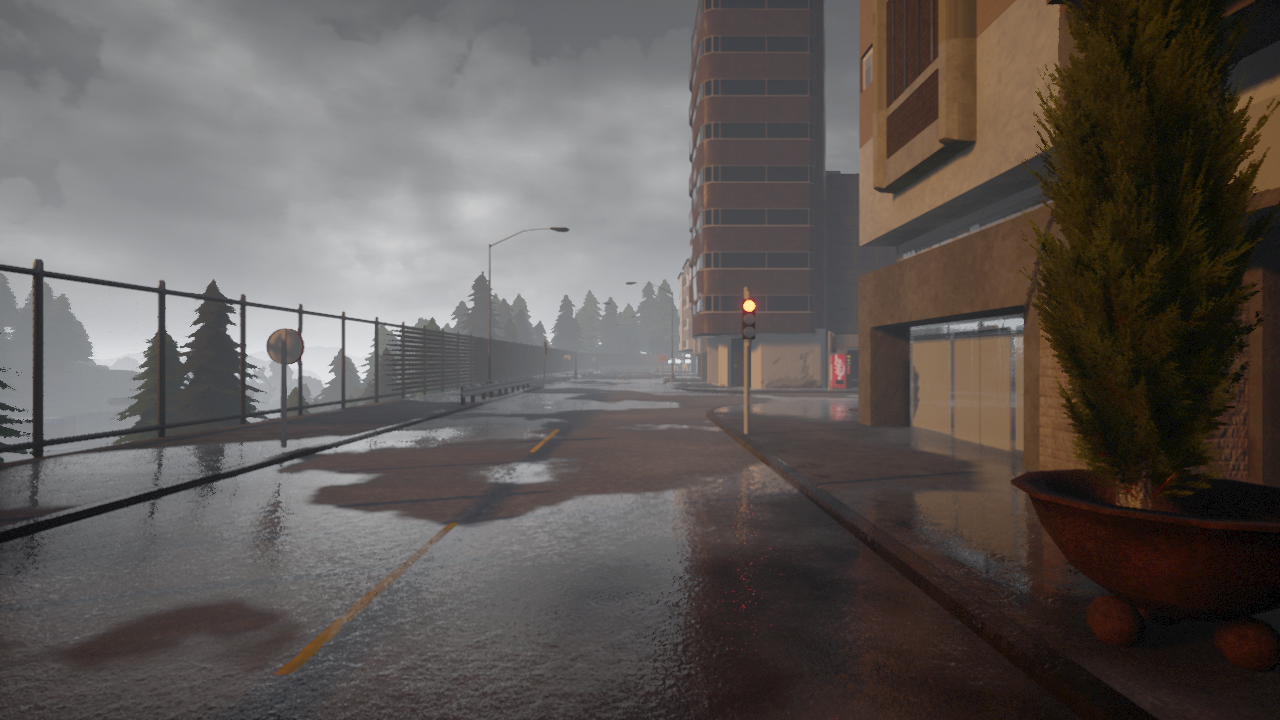red: (742, 298, 756, 339)
